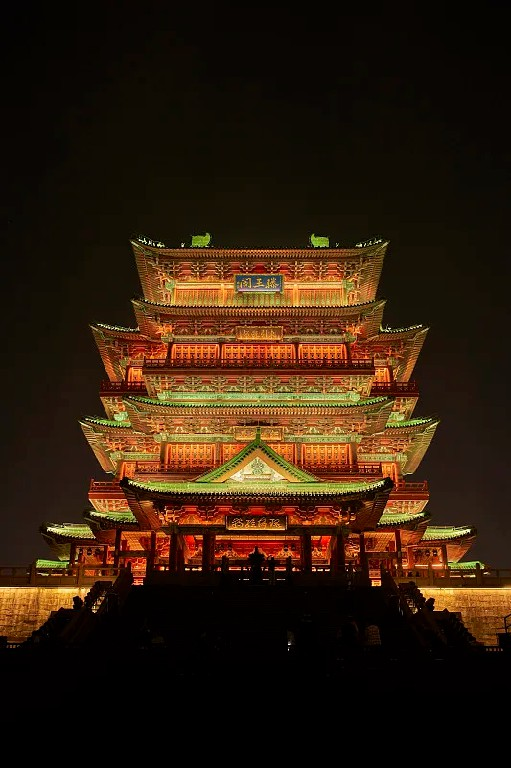Teng: (32, 232, 488, 577)
